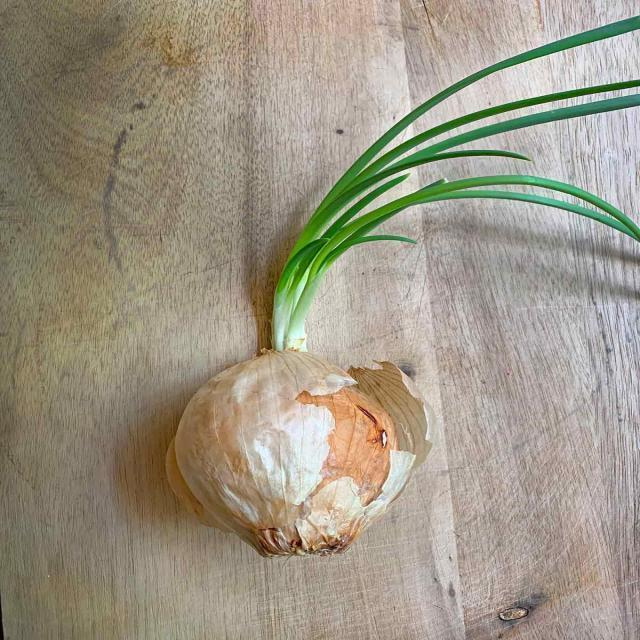Onion: (272, 12, 640, 349), (161, 349, 437, 553)
